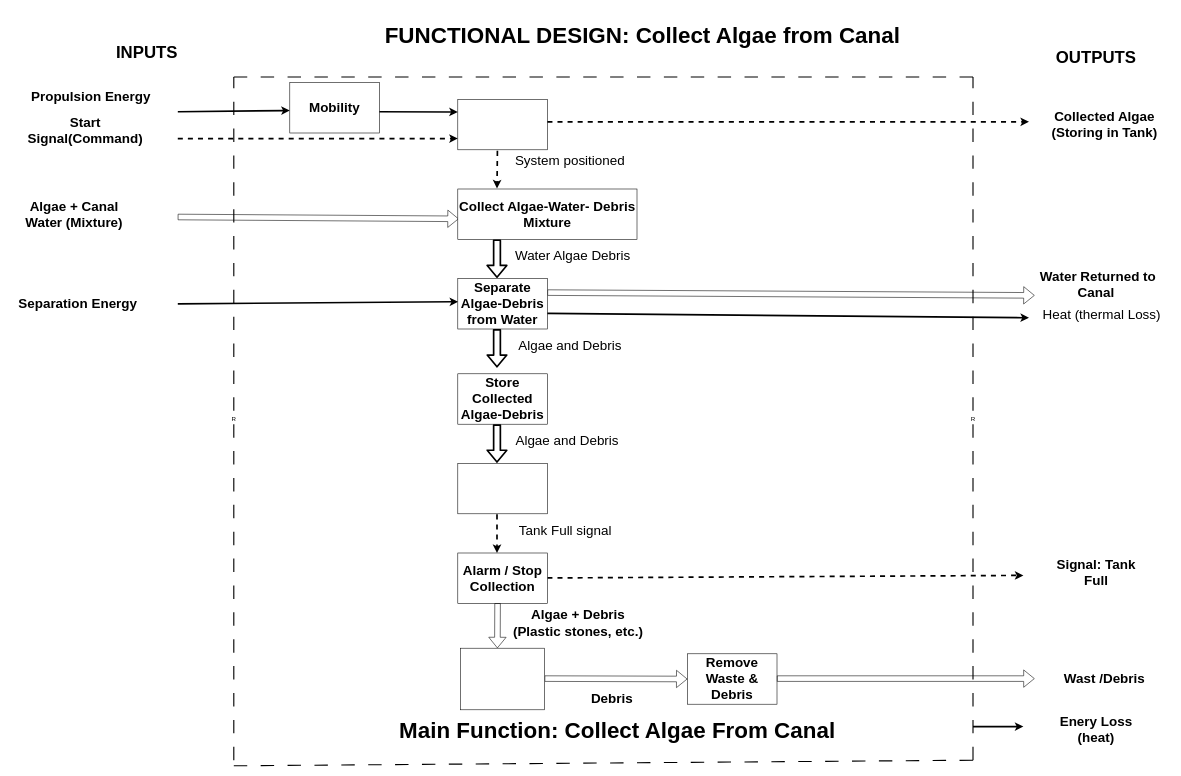
This 1181x776 diagram has some shape labels left out. Here are the shapes that lost their labels. From the top down, the centre of each, then its label:
the point at 502,124: Navigate to Algae Area
the point at 502,488: Monitor Storage Level
the point at 502,679: Separation of Algae from debris
